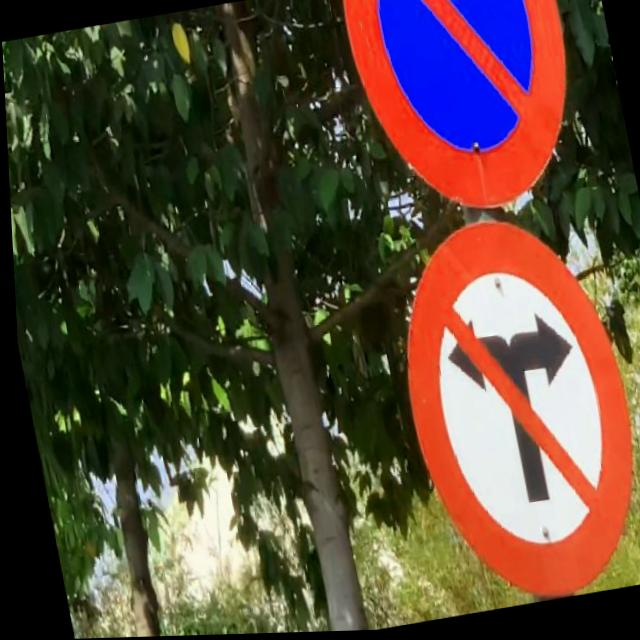Cam do xe: (323, 0, 601, 232)
